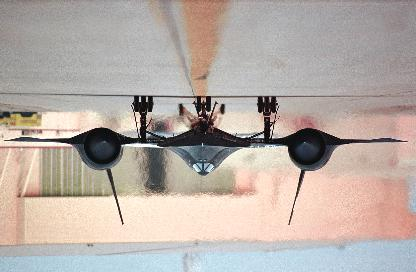Rafale: (4, 97, 408, 227)
